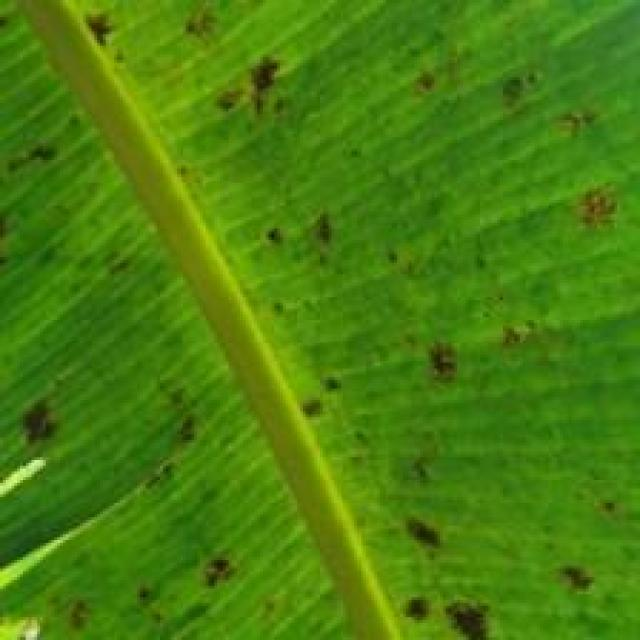Downey_mildrew: (0, 368, 265, 640), (361, 475, 638, 640), (408, 48, 634, 238), (74, 3, 304, 138), (218, 178, 381, 318), (0, 113, 90, 220), (383, 324, 489, 396)
